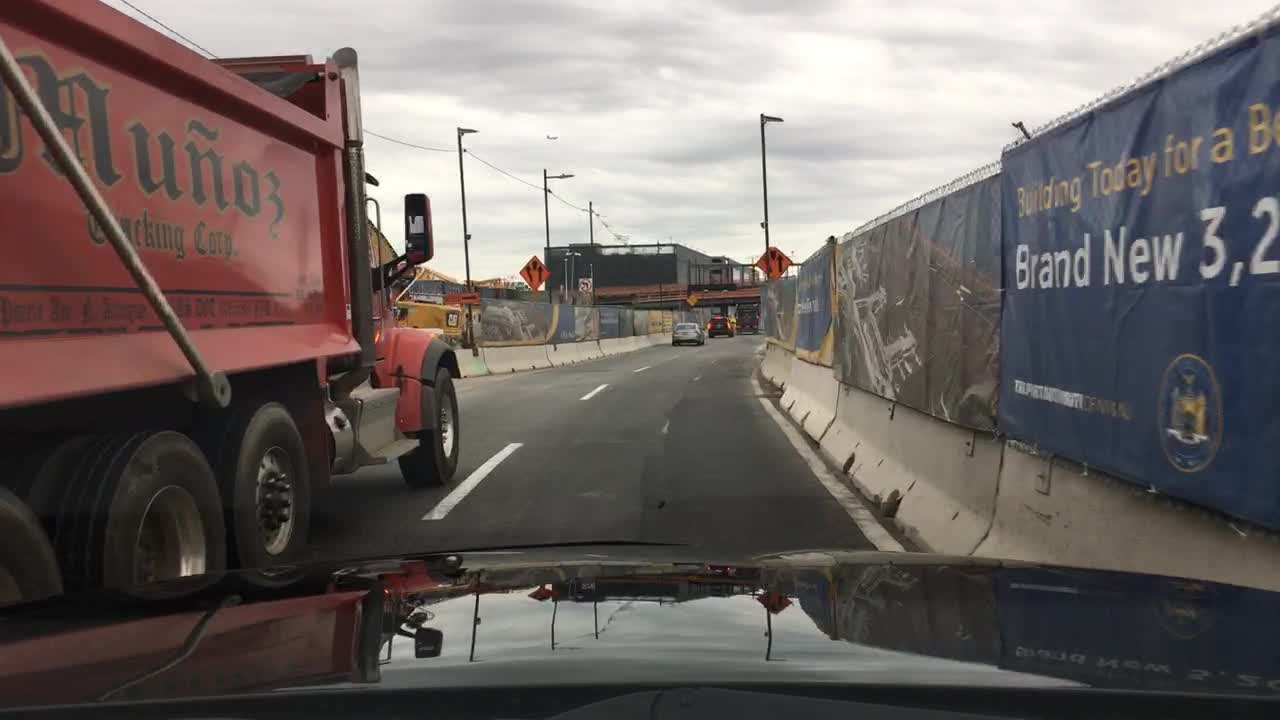car: (668, 319, 706, 348), (734, 303, 757, 335), (706, 314, 734, 339)
traffic sign: (754, 244, 792, 281), (519, 253, 550, 290), (446, 288, 482, 303), (576, 275, 594, 290), (686, 292, 701, 307)
truck: (0, 0, 462, 643)
